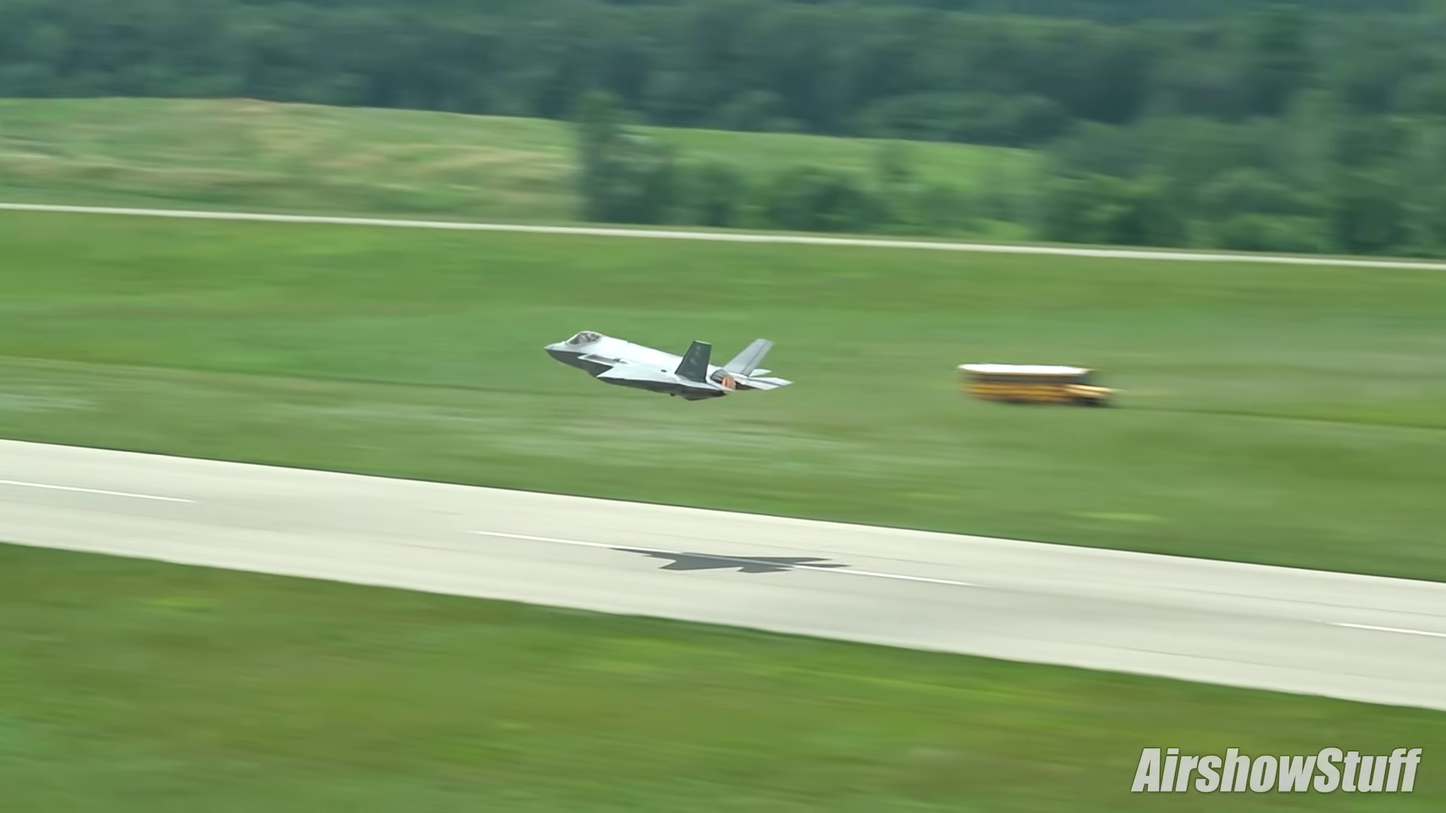F35: (538, 322, 799, 404)
